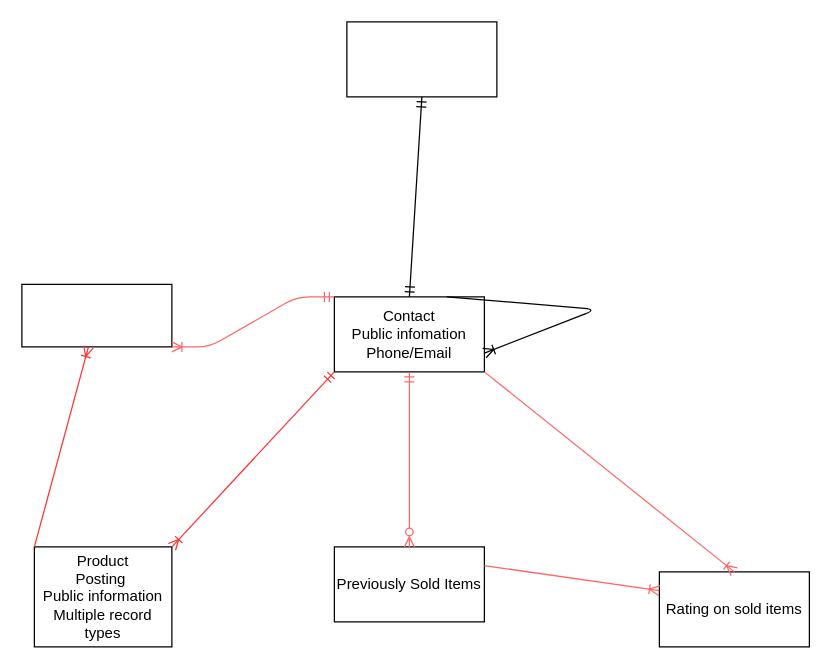
The diagram is 831 pixels wide and 669 high, and some of its shapes have lost their labels. The box of each missing label's shape, as (x1, y1, x2, y2) in pixels:
Account private information Billing address Credit card: (346, 21, 497, 97)
Current offers on items: (21, 283, 172, 347)
